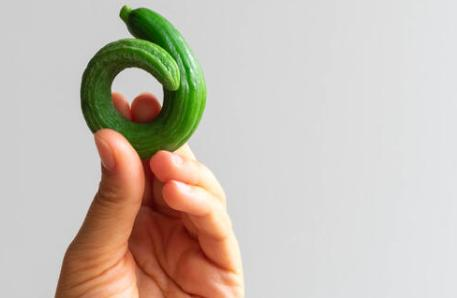organic: (77, 4, 209, 159)
